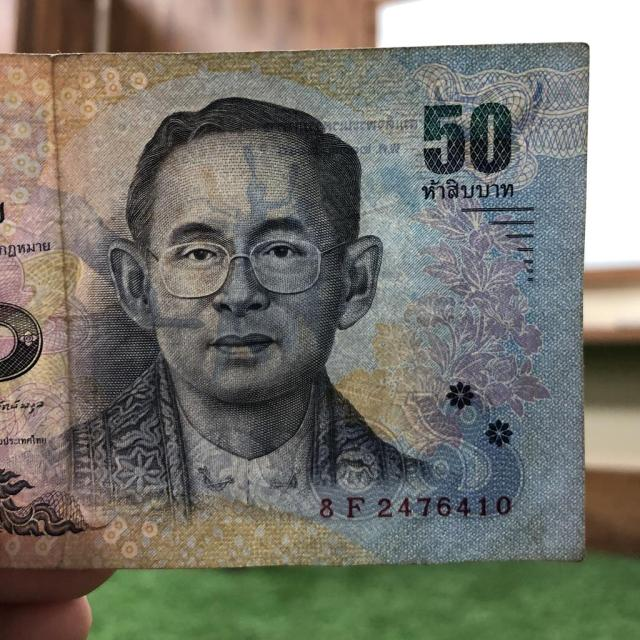THAI50: (0, 43, 589, 579)
